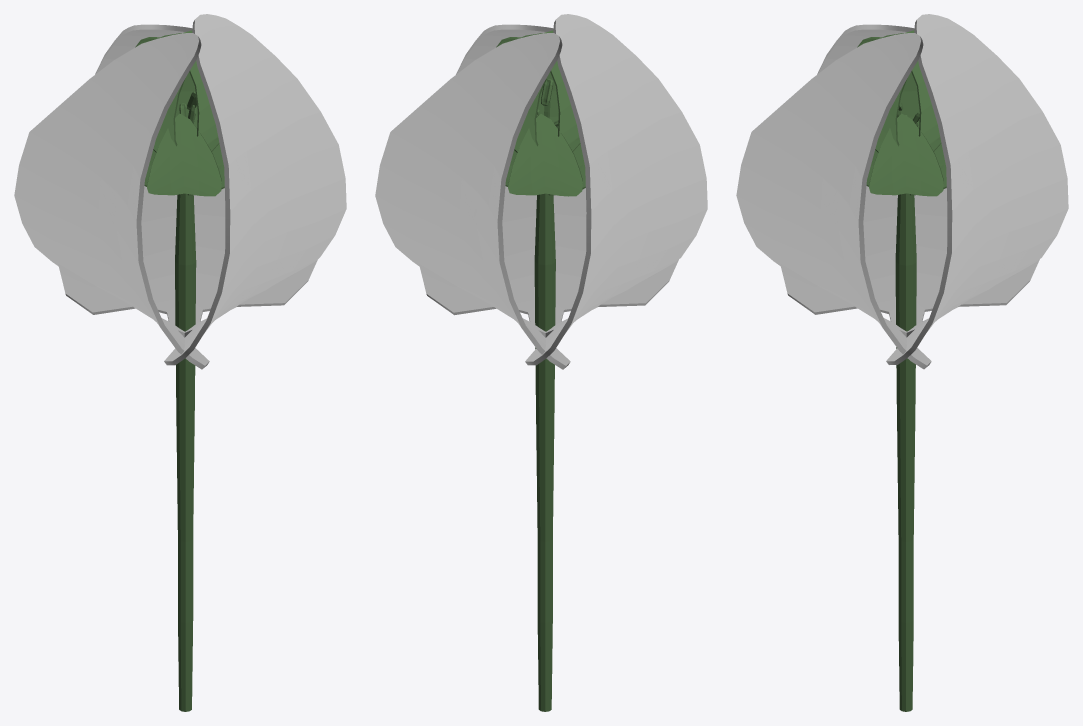
Rendered from Trillium_Static.fbx.
The picture shows the model from 3 angles, left to right: view 1: azimuth 30°, elevation 25°; view 2: azimuth 150°, elevation 25°; view 3: azimuth 270°, elevation 25°; orthographic projection.
Visible parts, largest first — view 1: leaf_30, leaf_31, leaf_32, Stem, SLeaf_Bend30, Peddle_Bend121, Peddle_Bend122, Peddle_Bend30; view 2: leaf_32, leaf_30, leaf_31, Stem, SLeaf_Bend122, Peddle_Bend30, Peddle_Bend121, Peddle_Bend122; view 3: leaf_31, leaf_32, leaf_30, Stem, SLeaf_Bend121, Peddle_Bend122, Peddle_Bend30, Peddle_Bend121.
Part boxes in pixels (x1,y1,x2,y2): leaf_30: (14,33,209,369); leaf_31: (164,14,346,365); leaf_32: (58,24,317,324); Stem: (175,91,196,711); SLeaf_Bend30: (147,113,221,196); Peddle_Bend121: (183,30,218,144); Peddle_Bend122: (135,37,219,152); Peddle_Bend30: (155,33,185,146); leaf_32: (375,33,570,369); leaf_30: (525,14,707,365); leaf_31: (419,24,678,324); Stem: (534,78,558,711); SLeaf_Bend122: (508,114,582,196); Peddle_Bend30: (544,30,579,144); Peddle_Bend121: (496,37,580,152); Peddle_Bend122: (516,33,545,146); leaf_31: (736,33,931,369); leaf_32: (886,14,1068,364); leaf_30: (780,24,1039,324); Stem: (895,100,919,711); SLeaf_Bend121: (869,113,943,196); Peddle_Bend122: (905,30,940,144); Peddle_Bend30: (857,37,941,152); Peddle_Bend121: (877,33,907,146).
Size of the model in its own units: 151 by 383 by 169.
